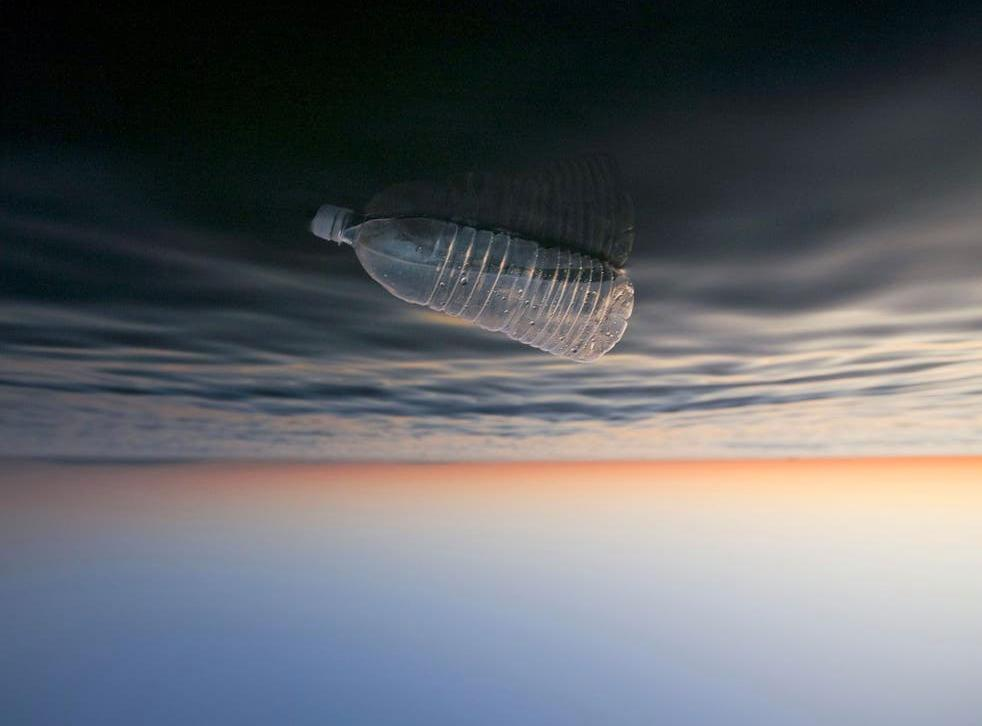Plastic: (309, 199, 639, 366)
